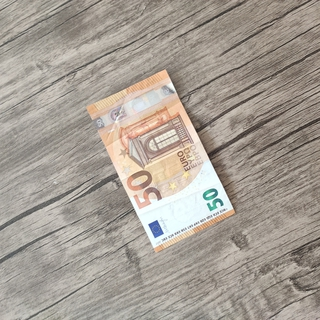50EUROFront: (84, 67, 237, 254)
